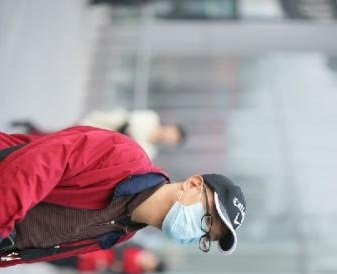person: (1, 128, 249, 272), (82, 106, 189, 161), (45, 239, 166, 272)
